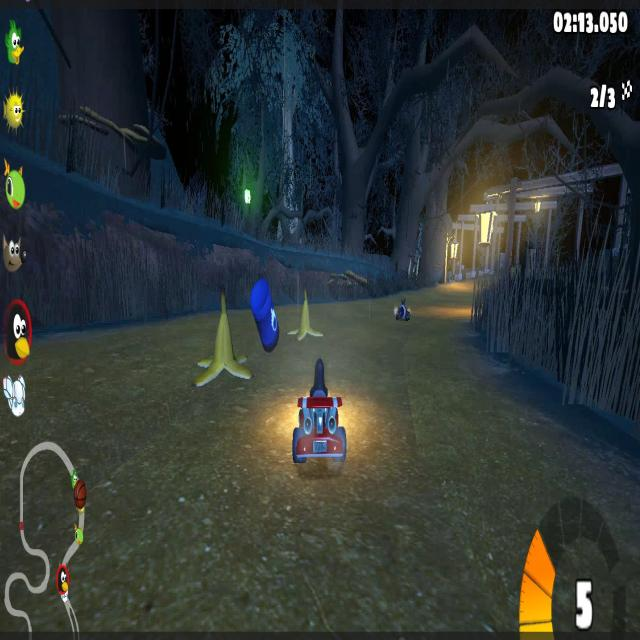bonus: (252, 284, 280, 350)
enemy_kart: (393, 299, 412, 326)
obstacle: (188, 291, 256, 402), (289, 292, 323, 352)
player_kart: (284, 357, 352, 478)
track: (359, 411, 640, 635), (4, 465, 360, 630), (0, 346, 185, 454), (363, 333, 530, 409), (190, 406, 283, 456), (258, 353, 280, 398), (340, 304, 391, 323), (148, 323, 184, 343), (447, 301, 477, 324), (416, 301, 446, 324), (326, 335, 361, 353), (443, 286, 479, 295), (424, 291, 443, 306), (327, 304, 339, 326), (463, 274, 482, 284)
